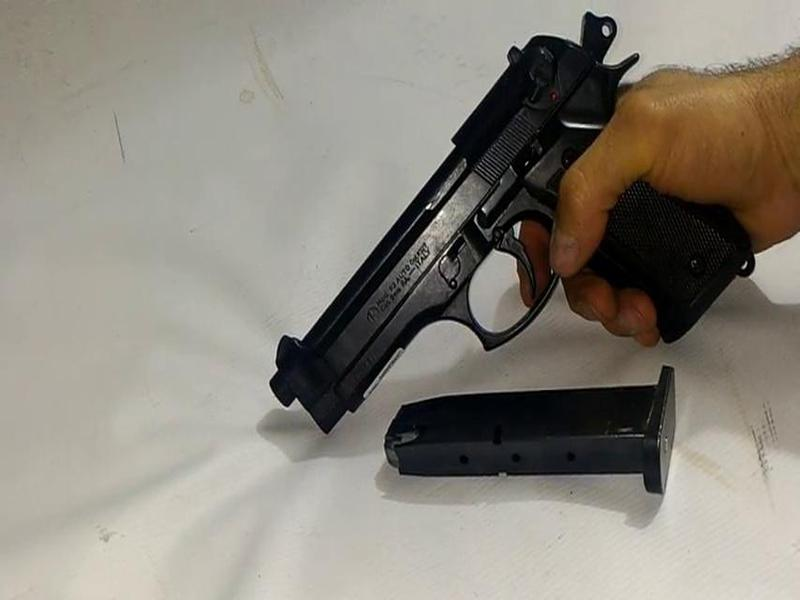Pistola: (261, 1, 760, 452)
